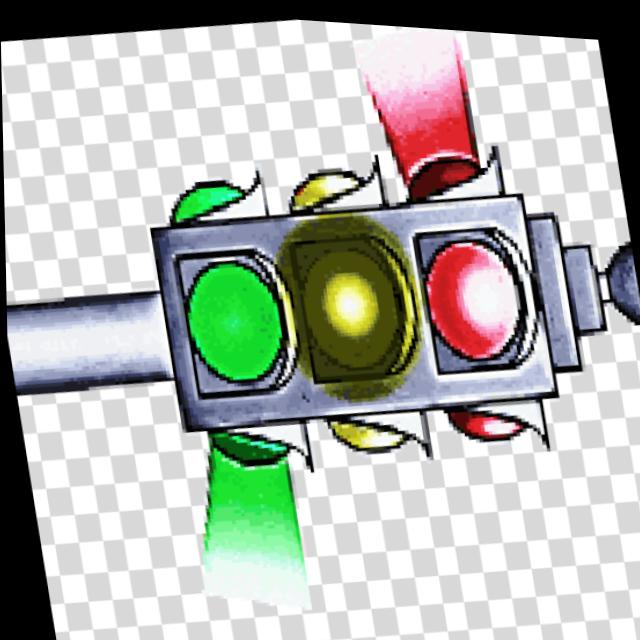green_light: (132, 160, 298, 425)
red_light: (414, 189, 539, 385)
